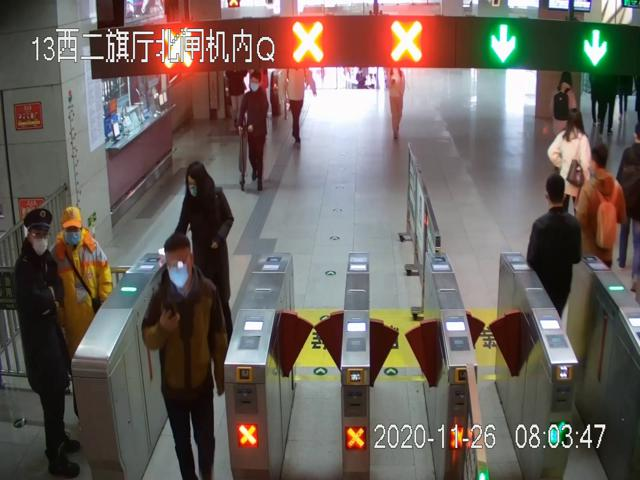person: (142, 234, 230, 480), (14, 209, 82, 478), (50, 205, 115, 428), (172, 161, 235, 357), (528, 176, 582, 327), (236, 70, 270, 192)
